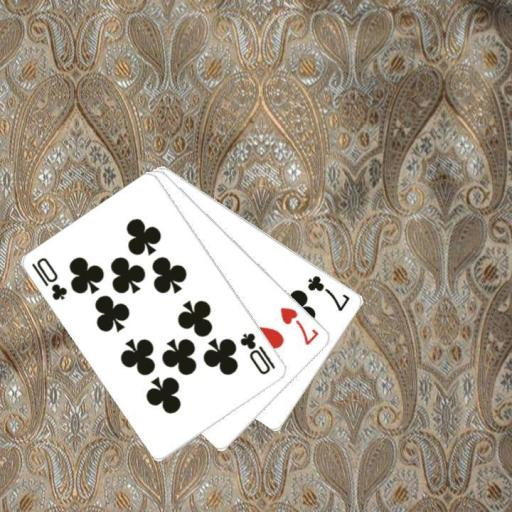10C: (29, 254, 70, 302), (237, 329, 277, 377)
7C: (304, 272, 352, 313)
7H: (277, 304, 321, 347)
